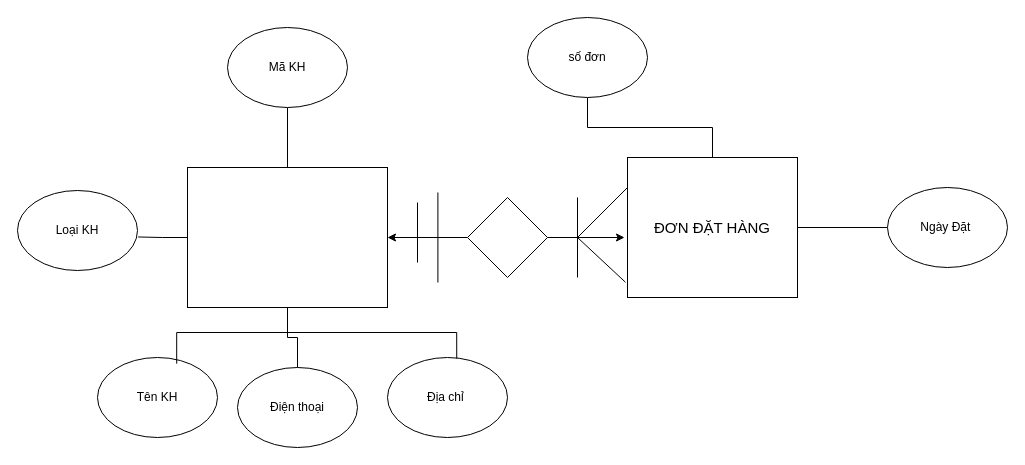
This 1025x465 diagram has some shape labels left out. Each missing label, with the centre of its shape:
KHÁCH HÀNG: the point at 287,237
r1: the point at 507,237
